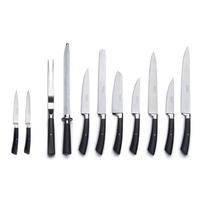knife: (176, 35, 197, 169), (55, 37, 78, 159), (94, 36, 111, 163), (145, 44, 162, 162), (42, 50, 59, 163), (75, 66, 94, 163), (130, 74, 147, 177), (112, 63, 127, 156), (165, 78, 180, 166), (6, 82, 21, 159), (23, 85, 36, 170)
